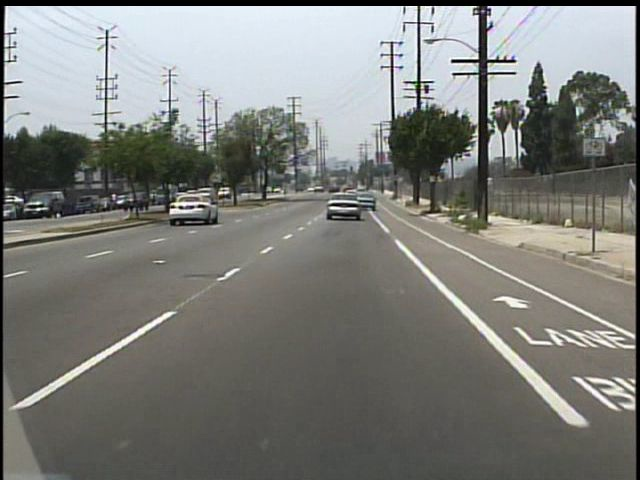person: (111, 191, 120, 210)
